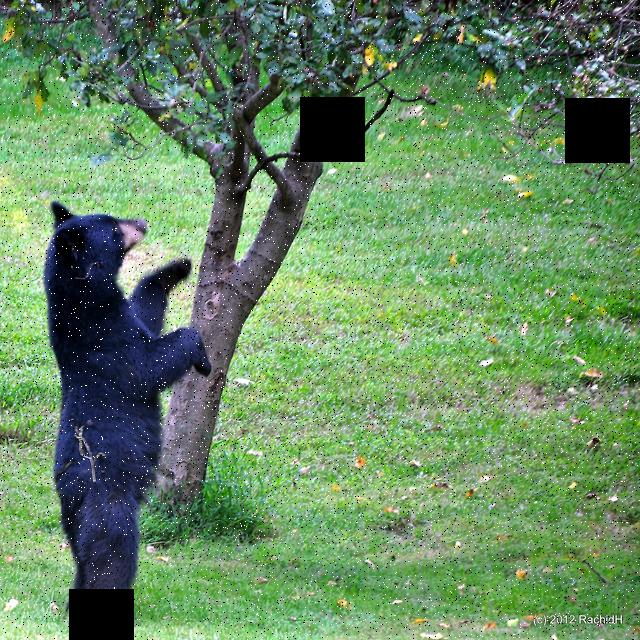Bear: (33, 196, 218, 634)
